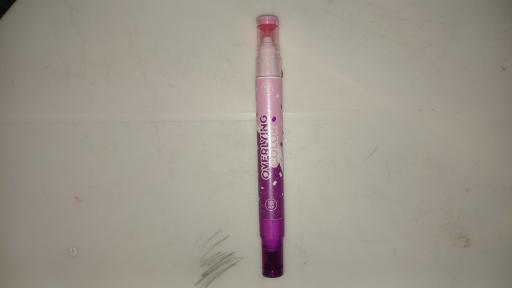Highlighter: (258, 13, 284, 279)
